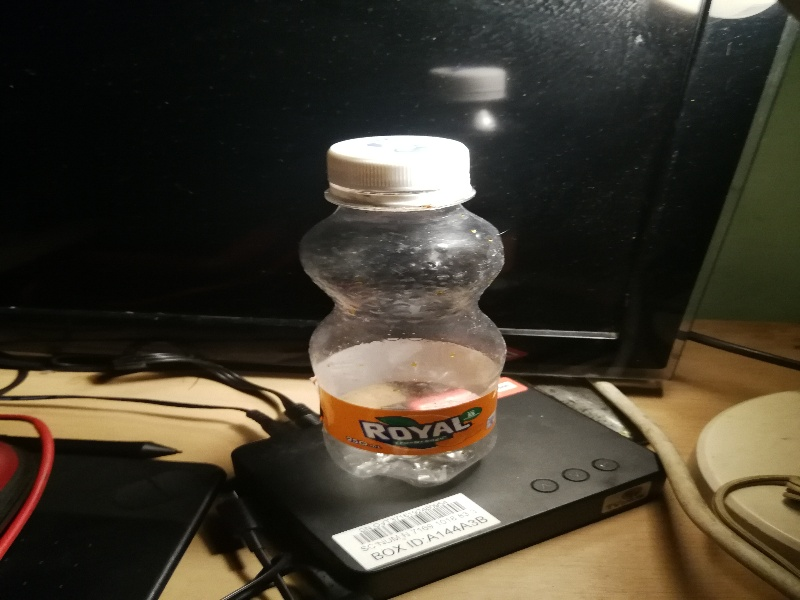PET #1: (293, 122, 511, 497)
